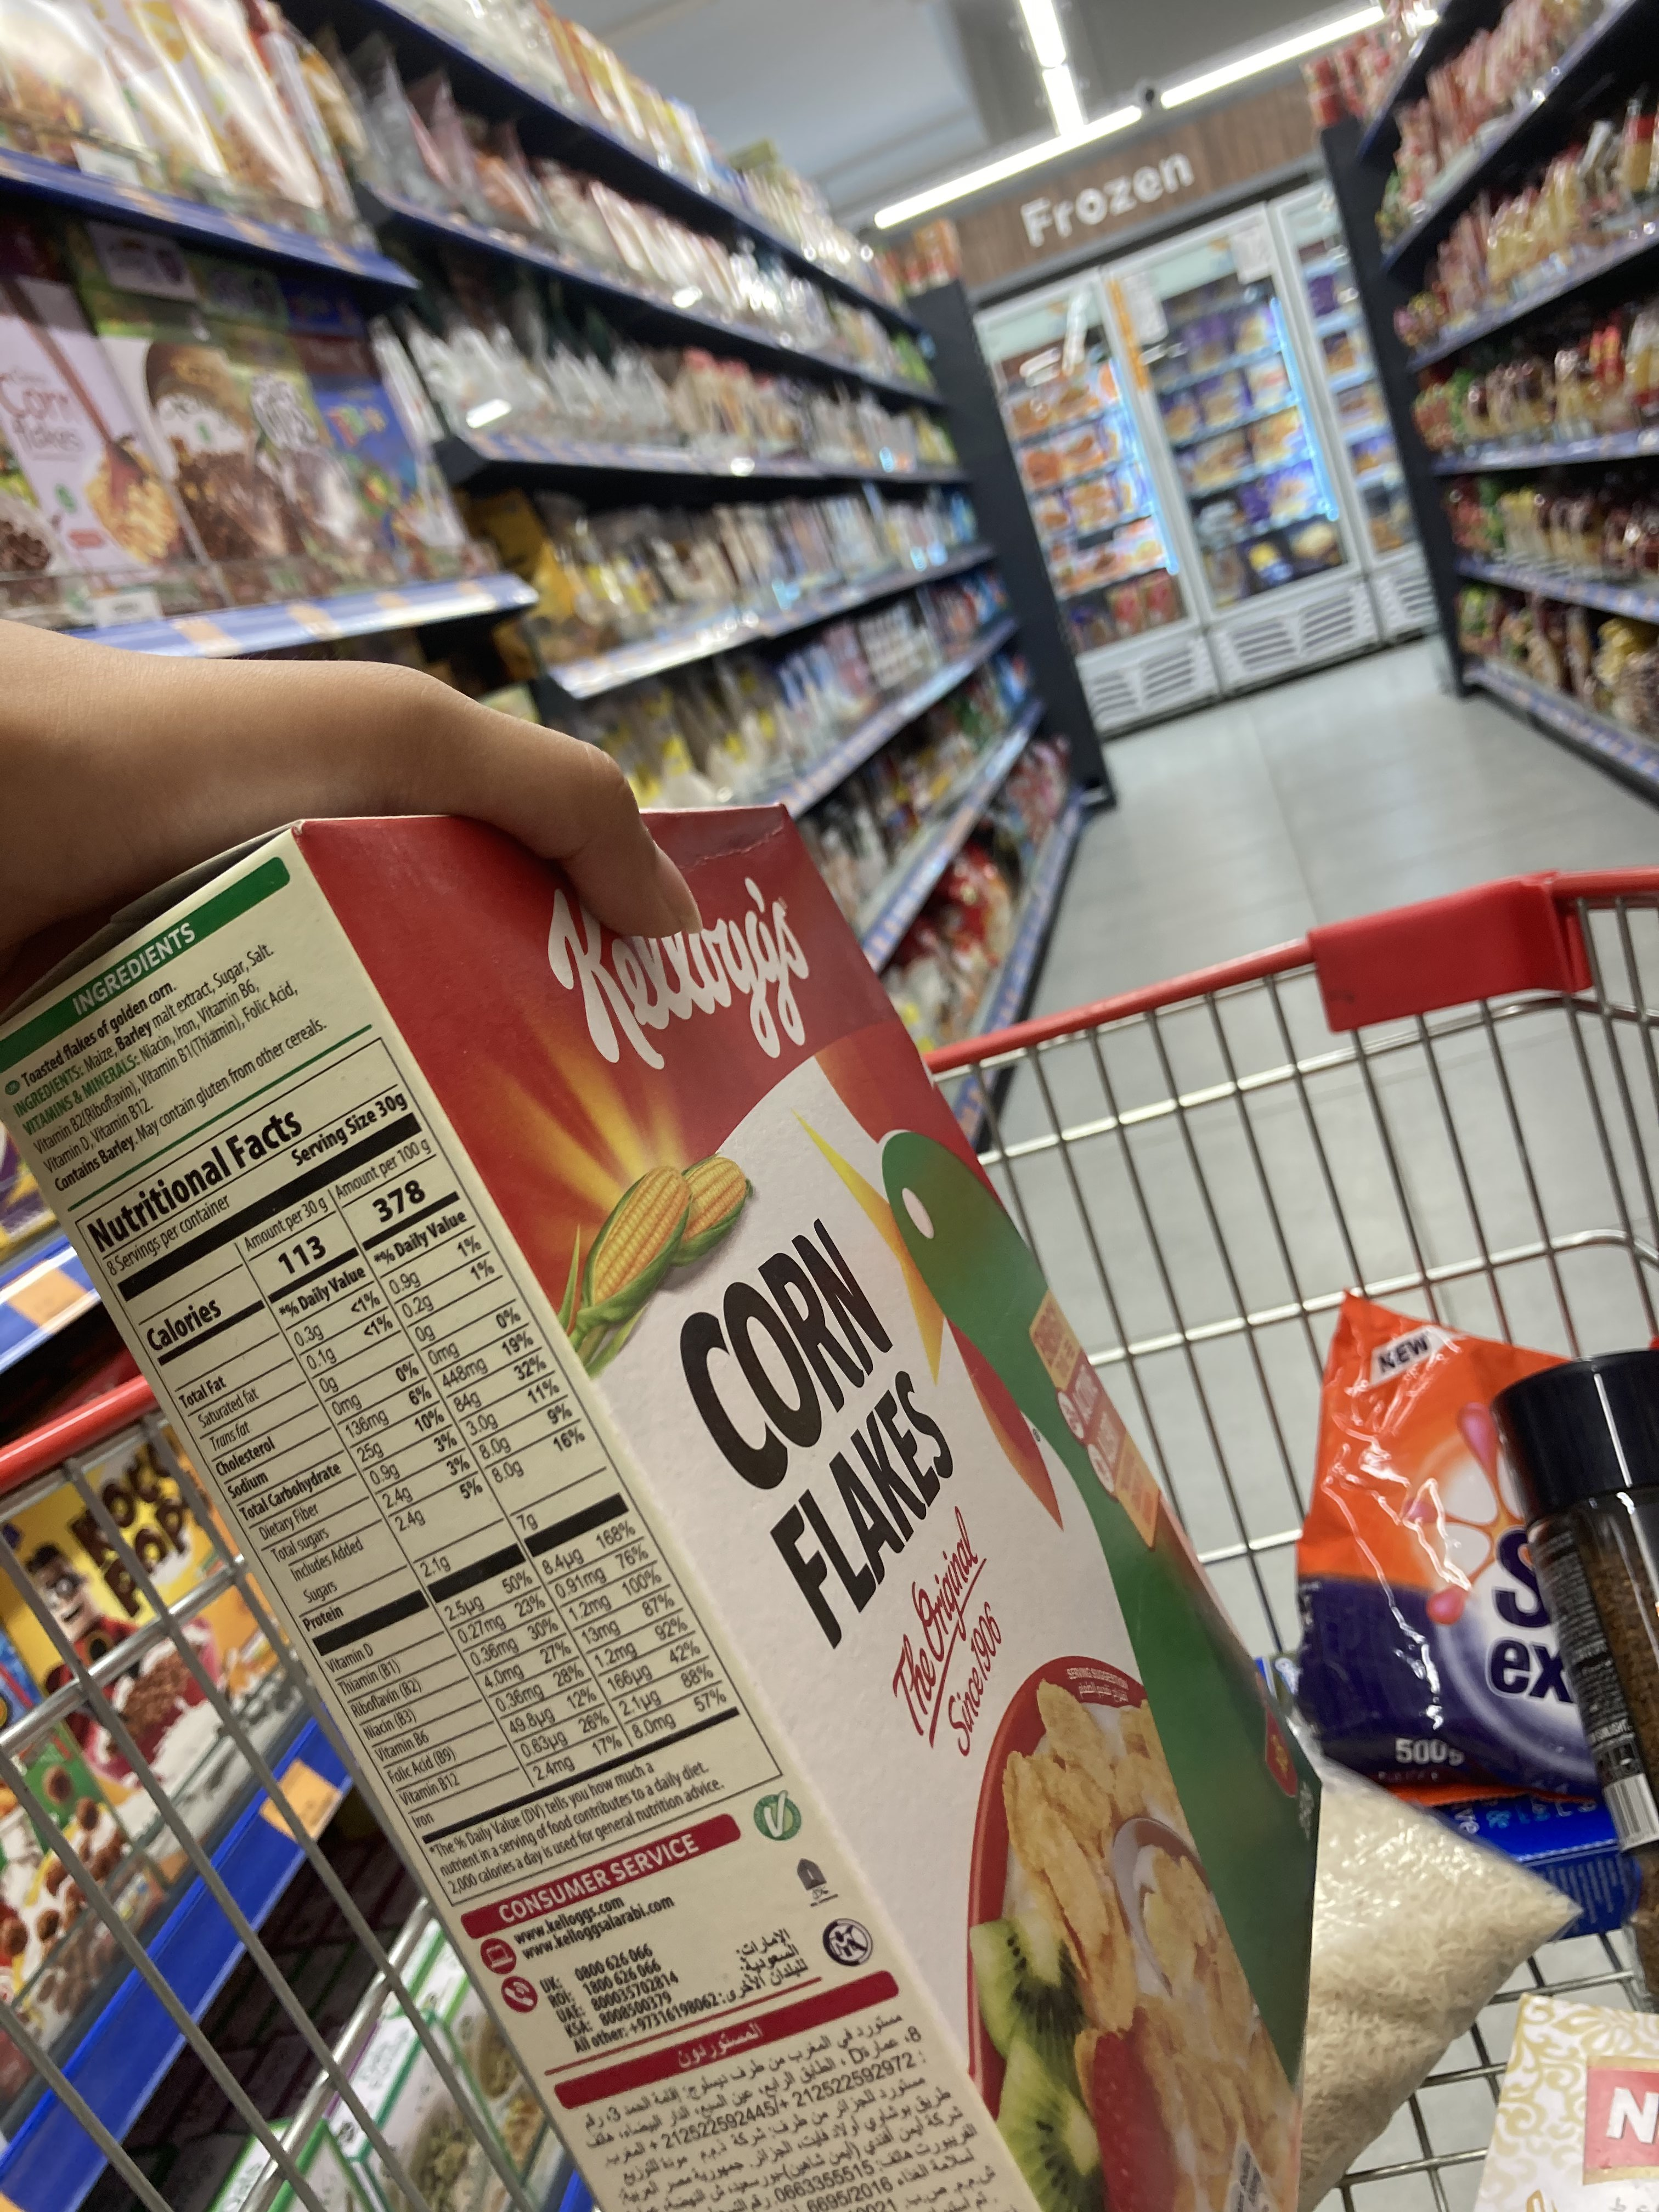Kellogg's Corn Flakes: (14, 798, 1331, 2212)
